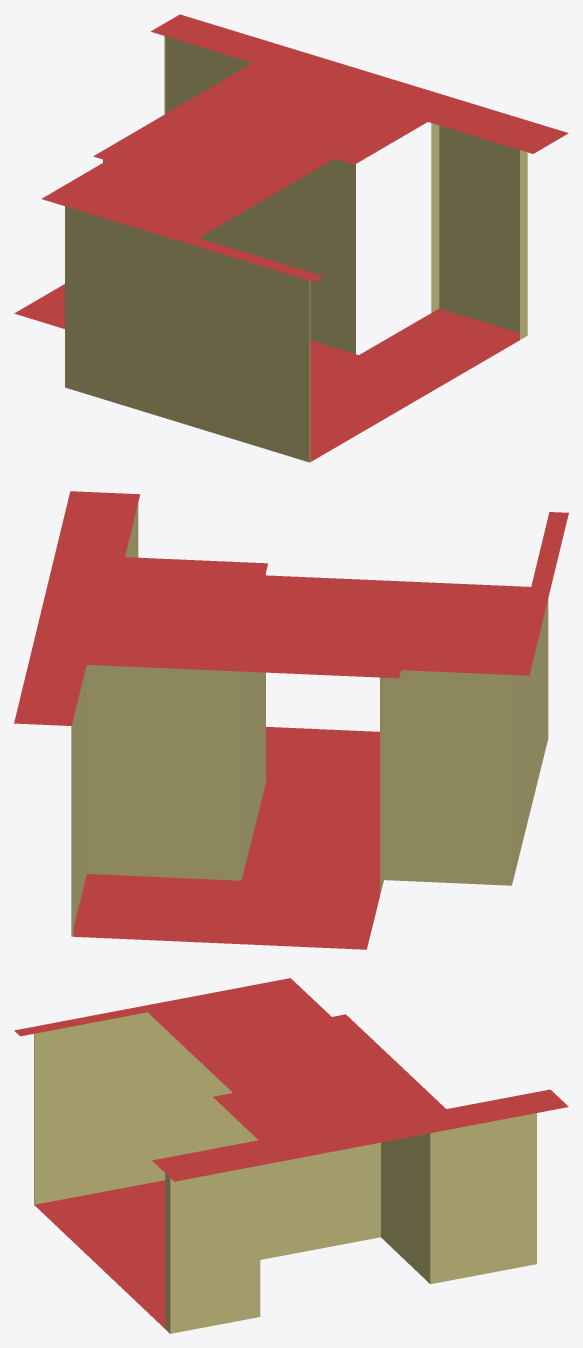
The picture shows the model from 3 angles, top to bottom: view 1: azimuth 30°, elevation 25°; view 2: azimuth 150°, elevation 25°; view 3: azimuth 270°, elevation 25°; orthographic projection. The views are drawn at different scales.
Bounding box in the file's own units: 15.65 × 18.02 × 6.14.
